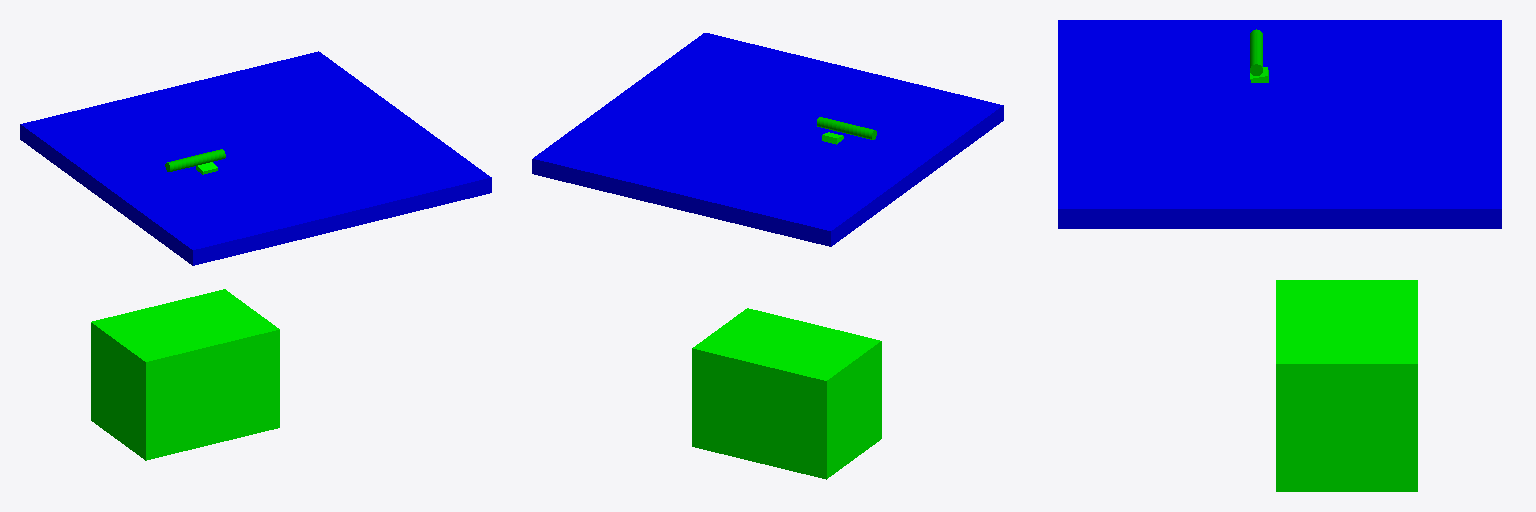
URDF robot description (ur10):
<?xml version="1.0" ?>
<!-- =================================================================================== -->
<!-- |    This document was autogenerated by xacro from ur10_robot.urdf.xacro          | -->
<!-- |    EDITING THIS FILE BY HAND IS NOT RECOMMENDED                                 | -->
<!-- =================================================================================== -->
<robot name="ur10" xmlns:xacro="http://ros.org/wiki/xacro">
  <gazebo>
    <plugin filename="libgazebo_ros_control.so" name="ros_control">
      <!--robotNamespace>/</robotNamespace-->
      <!--robotSimType>gazebo_ros_control/DefaultRobotHWSim</robotSimType-->
    </plugin>
  </gazebo>
  <!--
  Author: [author]
  Contributers: [author], [author], [author]
-->
  <!-- measured from model -->

  <!-- nothing to do here at the moment -->
  <!-- ROS base_link to UR 'Base' Coordinates transform -->
  <link name="base"/>
  <joint name="base_link-base_fixed_joint" type="fixed">
    <!-- NOTE: this rotation is only needed as long as base_link itself is
                 not corrected wrt the real robot (ie: rotated over 180
                 degrees)
      -->
    <origin rpy="0 0 1.5707963" xyz="0 0 0"/>
    <parent link="base"/>
    <child link="base_link"/>
  </joint>

  <link name="base_link">
    <visual>
      <geometry>
        <mesh filename="package://ur_description/meshes/ur10/visual/base.dae"/>
      </geometry>
      <material name="LightGrey">
        <color rgba="0.7 0.7 0.7 1.0"/>
      </material>
    </visual>
    <collision>
      <geometry>
        <mesh filename="package://ur_description/meshes/ur10/collision/base.stl"/>
      </geometry>
    </collision>
    <inertial>
      <mass value="4.0"/>
      <origin rpy="0 0 0" xyz="0.0 0.0 0.0"/>
      <inertia ixx="0.0061063308908" ixy="0.0" ixz="0.0" iyy="0.0061063308908" iyz="0.0" izz="0.01125"/>
    </inertial>
  </link>
  <joint name="shoulder_pan_joint" type="revolute">
    <parent link="base_link"/>
    <child link="shoulder_link"/>
    <origin rpy="0.0 0.0 0.0" xyz="0.0 0.0 0.1273"/>
    <axis xyz="0 0 1"/>
    <limit effort="330.0" lower="-1" upper="1.3" velocity="2.16"/>
    <dynamics damping="0.0" friction="0.0"/>
  </joint>
  <link name="shoulder_link">
    <visual>
      <geometry>
        <mesh filename="package://ur_description/meshes/ur10/visual/shoulder.dae"/>
      </geometry>
      <material name="LightGrey">
        <color rgba="0.7 0.7 0.7 1.0"/>
      </material>
    </visual>
    <collision>
      <geometry>
        <mesh filename="package://ur_description/meshes/ur10/collision/shoulder.stl"/>
      </geometry>
    </collision>
    <inertial>
      <mass value="7.778"/>
      <origin rpy="0 0 0" xyz="0.0 0.0 0.0"/>
      <inertia ixx="0.0314743125769" ixy="0.0" ixz="0.0" iyy="0.0314743125769" iyz="0.0" izz="0.021875625"/>
    </inertial>
  </link>
  <joint name="shoulder_lift_joint" type="revolute">
    <parent link="shoulder_link"/>
    <child link="upper_arm_link"/>
    <origin rpy="0.0 1.57079632679 0.0" xyz="0.0 0.220941 0.0"/>
    <axis xyz="0 1 0"/>
    <limit effort="330.0" lower="-3.14" upper="-0.5" velocity="2.16"/>
    <dynamics damping="0.0" friction="0.0"/>
  </joint>
  <link name="upper_arm_link">
    <visual>
      <geometry>
        <mesh filename="package://ur_description/meshes/ur10/visual/upperarm.dae"/>
      </geometry>
      <material name="LightGrey">
        <color rgba="0.7 0.7 0.7 1.0"/>
      </material>
    </visual>
    <collision>
      <geometry>
        <mesh filename="package://ur_description/meshes/ur10/collision/upperarm.stl"/>
      </geometry>
    </collision>
    <inertial>
      <mass value="12.93"/>
      <origin rpy="0 0 0" xyz="0.0 0.0 0.306"/>
      <inertia ixx="0.421753803798" ixy="0.0" ixz="0.0" iyy="0.421753803798" iyz="0.0" izz="0.036365625"/>
    </inertial>
  </link>
  <joint name="elbow_joint" type="revolute">
    <parent link="upper_arm_link"/>
    <child link="forearm_link"/>
    <origin rpy="0.0 0.0 0.0" xyz="0.0 -0.1719 0.612"/>
    <axis xyz="0 1 0"/>
    <limit effort="150.0" lower="-2.6" upper="0" velocity="3.15"/>
    <dynamics damping="0.0" friction="0.0"/>
  </joint>
  <link name="forearm_link">
    <visual>
      <geometry>
        <mesh filename="package://ur_description/meshes/ur10/visual/forearm.dae"/>
      </geometry>
      <material name="LightGrey">
        <color rgba="0.7 0.7 0.7 1.0"/>
      </material>
    </visual>
    <collision>
      <geometry>
        <mesh filename="package://ur_description/meshes/ur10/collision/forearm.stl"/>
      </geometry>
    </collision>
    <inertial>
      <mass value="3.87"/>
      <origin rpy="0 0 0" xyz="0.0 0.0 0.28615"/>
      <inertia ixx="0.111069694097" ixy="0.0" ixz="0.0" iyy="0.111069694097" iyz="0.0" izz="0.010884375"/>
    </inertial>
  </link>
  <joint name="wrist_1_joint" type="revolute">
    <parent link="forearm_link"/>
    <child link="wrist_1_link"/>
    <origin rpy="0.0 1.57079632679 0.0" xyz="0.0 0.0 0.5723"/>
    <axis xyz="0 1 0"/>
    <limit effort="54.0" lower="1.2" upper="5.2" velocity="3.2"/>
    <dynamics damping="0.0" friction="0.0"/>
  </joint>
  <link name="wrist_1_link">
    <visual>
      <geometry>
        <mesh filename="package://ur_description/meshes/ur10/visual/wrist1.dae"/>
      </geometry>
      <material name="LightGrey">
        <color rgba="0.7 0.7 0.7 1.0"/>
      </material>
    </visual>
    <collision>
      <geometry>
        <mesh filename="package://ur_description/meshes/ur10/collision/wrist1.stl"/>
      </geometry>
    </collision>
    <inertial>
      <mass value="1.96"/>
      <origin rpy="0 0 0" xyz="0.0 0.0 0.0"/>
      <inertia ixx="0.0051082479567" ixy="0.0" ixz="0.0" iyy="0.0051082479567" iyz="0.0" izz="0.0055125"/>
    </inertial>
  </link>
  <joint name="wrist_2_joint" type="revolute">
    <parent link="wrist_1_link"/>
    <child link="wrist_2_link"/>
    <origin rpy="0.0 0.0 0.0" xyz="0.0 0.1149 0.0"/>
    <axis xyz="0 0 1"/>
    <limit effort="54.0" lower="-2.8" upper="0.0" velocity="3.2"/>
    <dynamics damping="0.0" friction="0.0"/>
  </joint>
  <link name="wrist_2_link">
    <visual>
      <geometry>
        <mesh filename="package://ur_description/meshes/ur10/visual/wrist2.dae"/>
      </geometry>
      <material name="LightGrey">
        <color rgba="0.7 0.7 0.7 1.0"/>
      </material>
    </visual>
    <collision>
      <geometry>
        <mesh filename="package://ur_description/meshes/ur10/collision/wrist2.stl"/>
      </geometry>
    </collision>
    <inertial>
      <mass value="1.96"/>
      <origin rpy="0 0 0" xyz="0.0 0.0 0.0"/>
      <inertia ixx="0.0051082479567" ixy="0.0" ixz="0.0" iyy="0.0051082479567" iyz="0.0" izz="0.0055125"/>
    </inertial>
  </link>
  <joint name="wrist_3_joint" type="revolute">
    <parent link="wrist_2_link"/>
    <child link="wrist_3_link"/>
    <origin rpy="0.0 0.0 0.0" xyz="0.0 0.0 0.1157"/>
    <axis xyz="0 1 0"/>
    <limit effort="54.0" lower="-2.6" upper="0.0" velocity="3.2"/>
    <dynamics damping="0.0" friction="0.0"/>
  </joint>
  <link name="wrist_3_link">
    <visual>
      <geometry>
        <mesh filename="package://ur_description/meshes/ur10/visual/wrist3.dae"/>
      </geometry>
      <material name="LightGrey">
        <color rgba="0.7 0.7 0.7 1.0"/>
      </material>
    </visual>
    <collision>
      <geometry>
        <mesh filename="package://ur_description/meshes/ur10/collision/wrist3.stl"/>
      </geometry>
    </collision>
    <inertial>
      <mass value="0.202"/>
      <origin rpy="0 0 0" xyz="0.0 0.0 0.0"/>
      <inertia ixx="0.000526462289415" ixy="0.0" ixz="0.0" iyy="0.000526462289415" iyz="0.0" izz="0.000568125"/>
    </inertial>
  </link>
  <joint name="ee_fixed_joint" type="fixed">
    <parent link="wrist_3_link"/>
    <child link="ee_link"/>
    <origin rpy="0.0 0.0 1.57079632679" xyz="0.0 0.0922 0.0"/>
  </joint>
  <link name="ee_link">
    <collision>
      <geometry>
        <box size="0.01 0.01 0.01"/>
      </geometry>
      <origin rpy="0 0 0" xyz="-0.01 0 0"/>
    </collision>
  </link>



  <link name="tool1">
    <visual>
      <geometry>
        <cylinder length="0.37" radius="0.03"/>
      </geometry>
      <origin rpy="0 1.57 0" xyz="-0.185 0 0"/>
	  <material name="green">
    	<color rgba="0 0.8 0 1"/>
  	  </material>
    </visual>
  </link>
  <joint name="tool0_to_tool1" type="fixed">
    <origin rpy="0 0 0" xyz="0.37 0 0"/>
    <parent link="ee_link"/>
    <child link="tool1"/>
  </joint>

  <link name="gripper0">
  </link>
  <joint name="tool1_to_gripper0" type="fixed">
    <origin rpy="-1.57 -1.57 0" xyz="0.0 0 0"/>
    <parent link="tool1"/>
    <child link="gripper0"/>
  </joint>

  <link name="gripper">
  </link>
  <joint name="gripper0_to_gripper1" type="fixed">
    <origin rpy="0.0 0.0 0" xyz="-0.03 0 0"/>
    <parent link="gripper0"/>
    <child link="gripper"/>
  </joint>

<!--
  <link name="box">
    <visual>
      <geometry>
        <box size="0.08 0.08 0.15"/>
      </geometry>
      <origin rpy="0 0 0" xyz="0 0 0"/>
	  <material name="2">
    	<color rgba="0 1 0 1"/>
  	  </material>
    </visual>
  </link>
  <joint name="gripper_to_box" type="fixed">
    <parent link="gripper"/>
    <child link="box"/>
    <origin rpy="0.0 0.0 0.0" xyz="0 0.05 0.08"/>
  </joint>
-->

  <link name="huojia">
    <visual>
      <geometry>
        <mesh filename="package://ur_description/meshes/huojia1.stl"/>
      </geometry>
    </visual>
  </link>
  <joint name="base_to_huojia" type="fixed">
    <parent link="world"/>
    <child link="huojia"/>
    <origin rpy="0.0 0.0 0" xyz="0 -0.95 0"/>
  </joint>
<!--
  <link name="desk">
    <visual>
      <geometry>
        <mesh filename="package://ur_description/meshes/desk1.stl"/>
      </geometry>
    </visual>
  </link>
  <joint name="base_to_desk" type="fixed">
    <parent link="world"/>
    <child link="desk"/>
    <origin rpy="0.0 0.0 0" xyz="0 -1.05 0"/>
  </joint>
-->

  <link name="wall1">
    <visual>
      <geometry>
        <box size="2 2 0.1"/>
      </geometry>
      <origin rpy="0 0 0" xyz="0 0 0"/>
	  <material name=" ">
    	<color rgba="0 0 1 0.1"/>
  	  </material>
    </visual>
  </link>
  <joint name="agv_to_wall1" type="fixed">
    <parent link="agv"/>
    <child link="wall1"/>
    <origin rpy="0.0 0.0 0.0" xyz="0.3 -0.3 1.75"/>
  </joint>

<!--
  <link name="wall_prm">
    <visual>
      <geometry>
        <box size="1.5 0.06 0.7"/>
      </geometry>
      <origin rpy="0 0 0" xyz="0 0 0.35"/>
	  <material name="a">
    	<color rgba="0 1 0 1"/>
  	  </material>
    </visual>
  </link>
  <joint name="world_to_wallprm" type="fixed">
    <parent link="world"/>
    <child link="wall_prm"/>
    <origin rpy="0.0 0.0 0.0" xyz="0 -1.1 0.35"/>
  </joint>

-->

  <link name="world"/>

  <link name="agv">
    <visual>
      <geometry>
        <box size="0.9 0.64 0.63"/>
      </geometry>
      <origin rpy="0 0 0" xyz="0 0 0.315"/>
	  <material name="green">
    	<color rgba="0 1 0 1"/>
  	  </material>
    </visual>
  </link>
  <joint name="world_to_agv" type="fixed">
    <parent link="world"/>
    <child link="agv"/>
    <origin rpy="0.0 0.0 0" xyz="-0.275 0 0"/>
  </joint>

  <joint name="agv_to_base_link" type="fixed">
    <parent link="agv"/>
    <child link="base"/>
    <origin rpy="0.0 0.0 0" xyz="0.275 0 0.635"/>
  </joint>
<!--
  <link name="basket">
    <visual>
      <geometry>
        <box size="0.4 0.6 0.2"/>
      </geometry>
      <origin rpy="0 0 0" xyz="0 0 0.1"/>
	  <material name="green">
    	<color rgba="0 1 0 1"/>
  	  </material>
    </visual>
  </link>
  <joint name="agv_to_basket" type="fixed">
    <parent link="agv"/>
    <child link="basket"/>
    <origin rpy="0.0 0.0 0" xyz="-0.225 0 0.6"/>
  </joint>
-->

  <link name="camera">
    <visual>
      <geometry>
        <box size="0.1 0.08 0.08"/>
      </geometry>
      <origin rpy="0 0 0" xyz="0 0 0"/>
	  <material name="green">
    	<color rgba="0 1 0 1"/>
  	  </material>
    </visual>
  </link>
  <joint name="ee_to_camera" type="fixed">
    <parent link="ee_link"/>
    <child link="camera"/>
    <origin rpy="0.0 0.0 0.0" xyz="0.1 0.1 0.0"/>
  </joint>

<!--
  <link name="abc1">
  </link>
  <joint name="ee_to_abc1" type="fixed">
    <parent link="ee_link"/>
    <child link="abc1"/>
    <origin rpy="0.0 0.0 0.0" xyz="0.01 0.0 0.0"/>
  </joint>

  <link name="abc2">
  </link>
  <joint name="abc1_to_abc2" type="fixed">
    <parent link="abc1"/>
    <child link="abc2"/>
    <origin rpy="0.0 0.0 0.0" xyz="0.0 0.063 0.0"/>
  </joint>

  <link name="abc3">
  </link>
  <joint name="abc2_to_abc3" type="fixed">
    <parent link="abc2"/>
    <child link="abc3"/>
    <origin rpy="0.0 0.0 1.92" xyz="0.0 0.0 0.0"/>
  </joint>

  <link name="abc4">
  </link>
  <joint name="abc3_to_abc4" type="fixed">
    <parent link="abc3"/>
    <child link="abc4"/>
    <origin rpy="0.0 0.0 0.0" xyz="0.0 -0.1356 0.0"/>
  </joint>

  <link name="abc5">
  </link>
  <joint name="abc4_to_abc5" type="fixed">
    <parent link="abc4"/>
    <child link="abc5"/>
    <origin rpy="0.0 0.0 0.0" xyz="0.013 0.0 0.0"/>
  </joint>

  <link name="abc6">
  </link>
  <joint name="abc5_to_abc6" type="fixed">
    <parent link="abc5"/>
    <child link="abc6"/>
    <origin rpy="1.5708 0.0 0.0" xyz="0.0 0.0 0.0"/>
  </joint>

  <link name="abc7">
  </link>
  <joint name="abc6_to_abc7" type="fixed">
    <parent link="abc6"/>
    <child link="abc7"/>
    <origin rpy="0.0 0.0 1.5708" xyz="0.0 0.0 0.0"/>
  </joint>
-->
</robot>

--- Render facts (derived) ---
3 views of the same robot in one strip: view 1: azimuth 30°, elevation 25°; view 2: azimuth 150°, elevation 25°; view 3: azimuth 270°, elevation 25° (orthographic).
Model ur10 with 17 links and 16 joints (6 revolute, 10 fixed), rooted at world, posed joints at zero except 2 at the middle of their limits (shoulder_lift_joint = -1.82, wrist_1_joint = 3.2).
Visible links, largest first — view 1: wall1, agv, tool1; view 2: wall1, agv, tool1; view 3: wall1, agv, tool1.
Boxes of the visible links, x1=… form: wall1: x1=20, y1=51, x2=491, y2=265; agv: x1=91, y1=289, x2=279, y2=460; tool1: x1=165, y1=149, x2=225, y2=171; wall1: x1=532, y1=33, x2=1003, y2=246; agv: x1=692, y1=308, x2=881, y2=479; tool1: x1=817, y1=117, x2=876, y2=139; wall1: x1=1058, y1=20, x2=1501, y2=228; agv: x1=1276, y1=280, x2=1417, y2=491; tool1: x1=1250, y1=29, x2=1262, y2=75.
Size in the robot's own frame: 2 by 2 by 1.92 metres.
0 mesh visuals loaded from 8 distinct referenced files (none loaded); not drawn: 8 (reference not matched to a file when rendering).